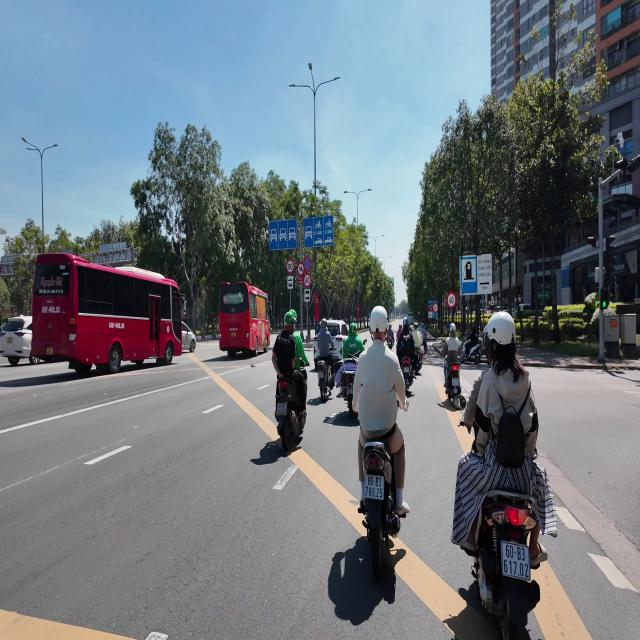car: (0, 316, 38, 365), (327, 320, 348, 354), (182, 322, 196, 352)
motorcycle: (467, 490, 540, 639), (359, 441, 400, 579), (275, 378, 305, 452), (340, 358, 357, 418), (446, 364, 466, 409), (317, 360, 331, 402), (401, 356, 412, 390)
